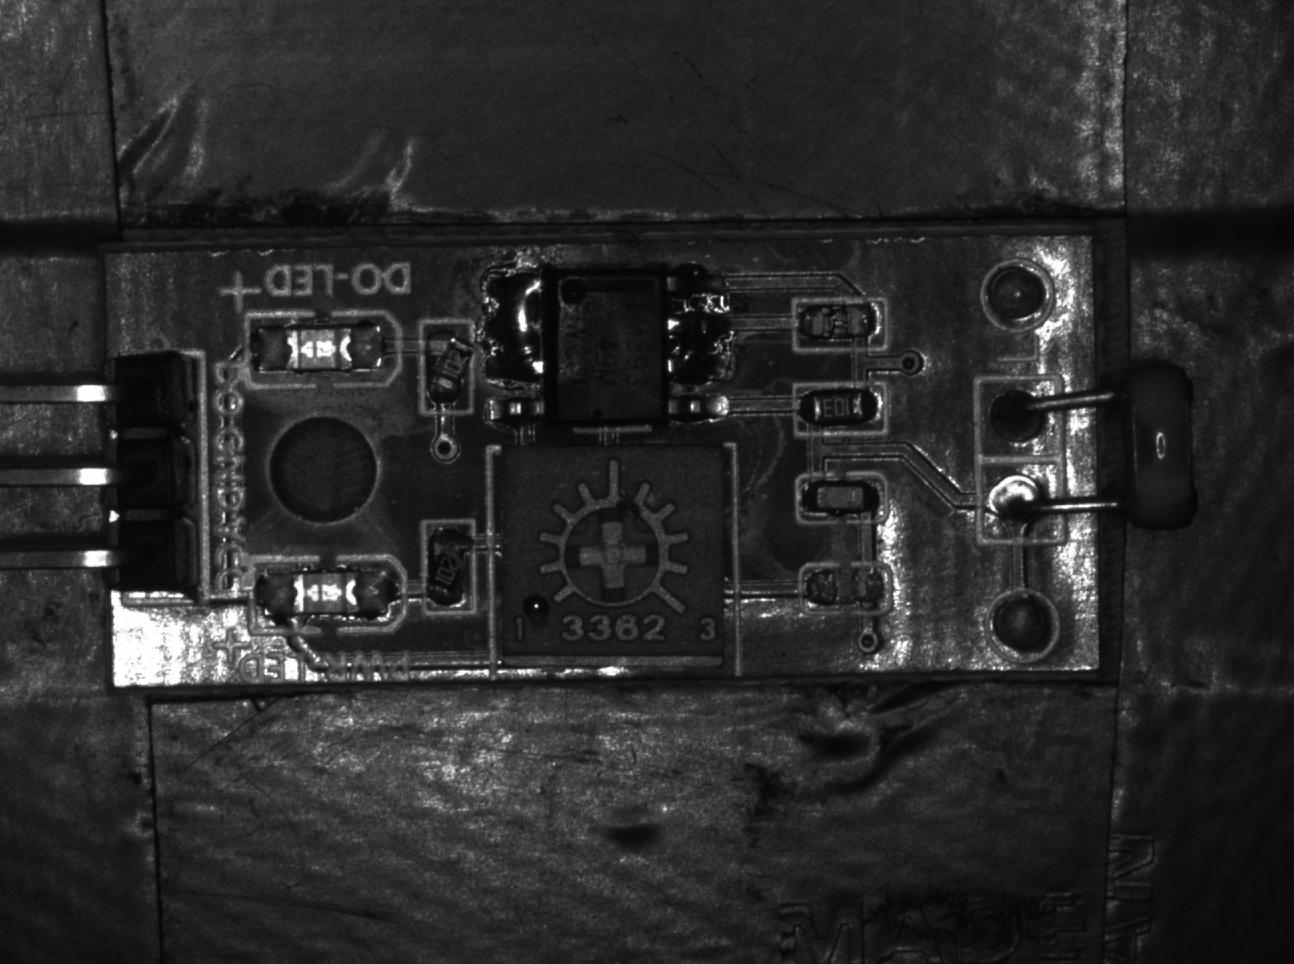bridge: (481, 268, 547, 388), (667, 307, 732, 383)
lifted: (418, 321, 471, 414), (422, 523, 476, 614)
miss: (974, 377, 1066, 543), (792, 297, 886, 351), (798, 564, 891, 612)
ok: (793, 381, 888, 436), (797, 473, 885, 521)
